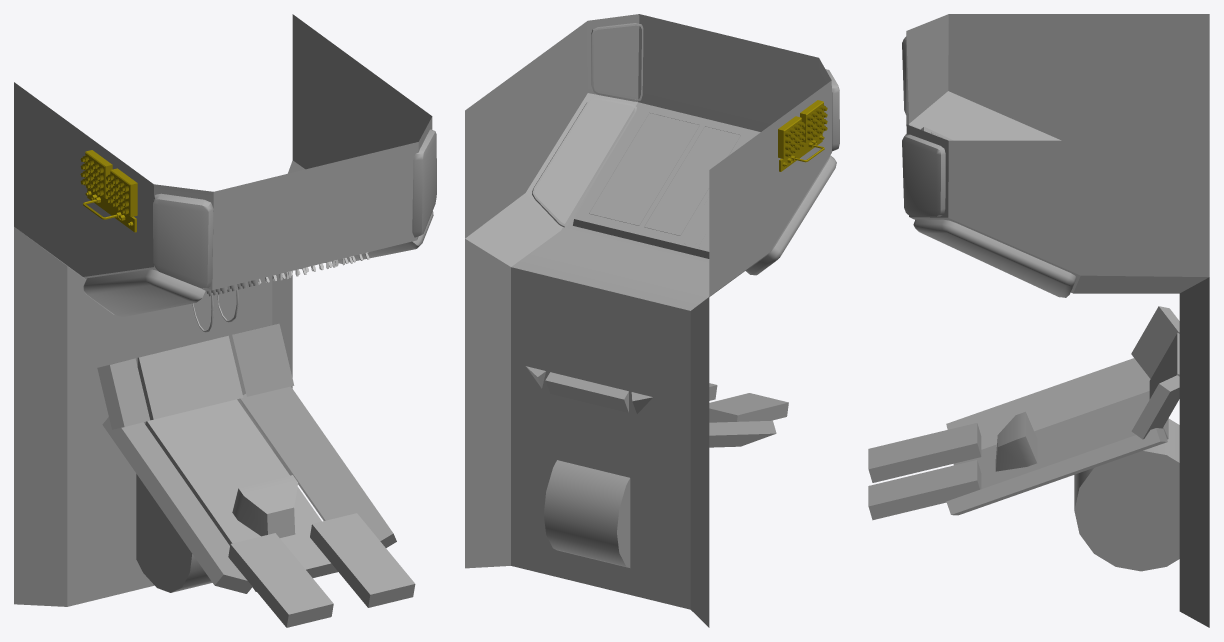
File: m_Furniture_ImplantDoc_01.fbx
3 views of the same model, side by side, from view 1: azimuth 30°, elevation 25°; view 2: azimuth 150°, elevation 25°; view 3: azimuth 270°, elevation 25° (orthographic). The views are drawn at different scales.
Parts seen in each view (by area): view 1: polySurface12072, polySurface12368, polySurface12069, polySurface12390, polySurface12067, polySurface12475, polySurface12066, polySurface12460, polySurface12065; view 2: polySurface12072, polySurface12390, polySurface12368, polySurface12475, polySurface12067, polySurface12065, polySurface12066, polySurface12069; view 3: polySurface12072, polySurface12368, polySurface12390, polySurface12065, polySurface12066.
Part boxes in pixels (x1=…): polySurface12072: x1=14, y1=14, x2=432, y2=606; polySurface12368: x1=97, y1=323, x2=415, y2=627; polySurface12069: x1=153, y1=193, x2=213, y2=288; polySurface12390: x1=136, y1=474, x2=212, y2=592; polySurface12067: x1=83, y1=269, x2=205, y2=317; polySurface12475: x1=80, y1=150, x2=137, y2=232; polySurface12066: x1=412, y1=129, x2=436, y2=237; polySurface12460: x1=192, y1=252, x2=369, y2=332; polySurface12065: x1=338, y1=211, x2=433, y2=263; polySurface12072: x1=465, y1=14, x2=831, y2=627; polySurface12390: x1=544, y1=460, x2=630, y2=567; polySurface12368: x1=526, y1=366, x2=788, y2=447; polySurface12475: x1=778, y1=100, x2=827, y2=171; polySurface12067: x1=745, y1=155, x2=836, y2=275; polySurface12065: x1=532, y1=98, x2=636, y2=227; polySurface12066: x1=591, y1=23, x2=643, y2=101; polySurface12069: x1=825, y1=69, x2=839, y2=151; polySurface12072: x1=906, y1=14, x2=1209, y2=627; polySurface12368: x1=868, y1=306, x2=1179, y2=520; polySurface12390: x1=1074, y1=418, x2=1179, y2=571; polySurface12065: x1=913, y1=219, x2=1076, y2=297; polySurface12066: x1=902, y1=134, x2=945, y2=216.
Size of the model in its own units: 182 by 300 by 190.
